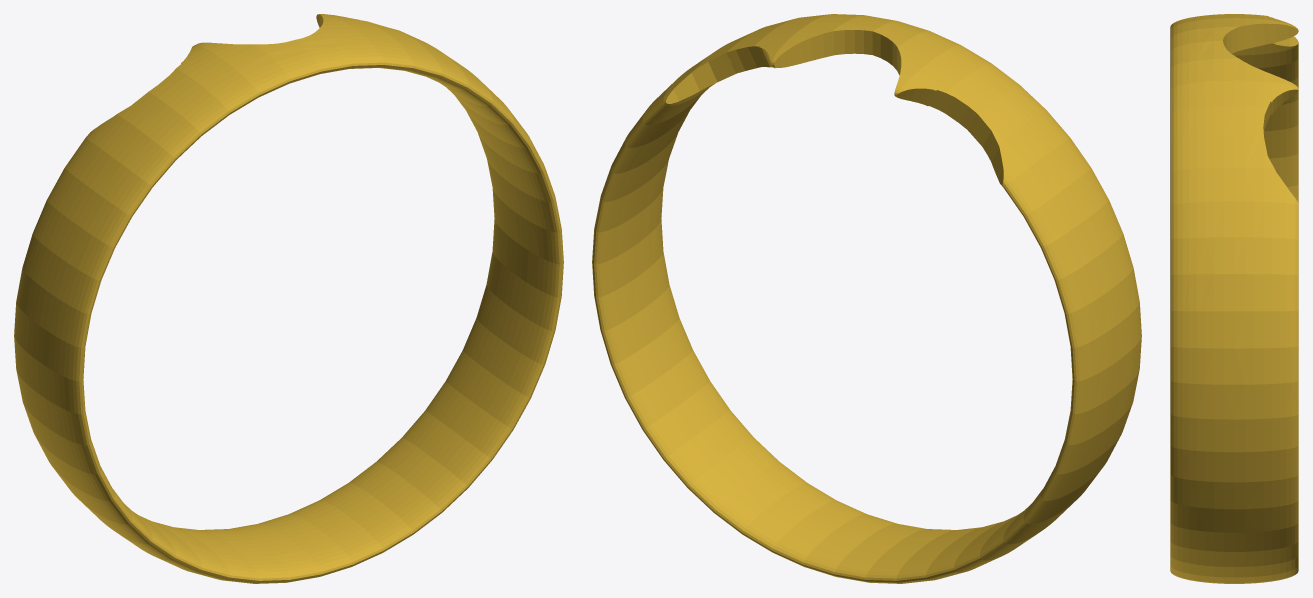
The model's file is band-4.5mm.glb.
3 renders of one model, left to right at view 1: azimuth 30°, elevation 25°; view 2: azimuth 150°, elevation 25°; view 3: azimuth 270°, elevation 25°, orthographic.
Parts seen in each view (by area): view 1: band-4.5mm; view 2: band-4.5mm; view 3: band-4.5mm.
Part boxes in pixels (x1,y1,x2,y2): band-4.5mm: (14,14,563,583); band-4.5mm: (592,14,1141,583); band-4.5mm: (1170,14,1298,583).
Size of the model in its own units: 20 by 19.99 by 4.5.
